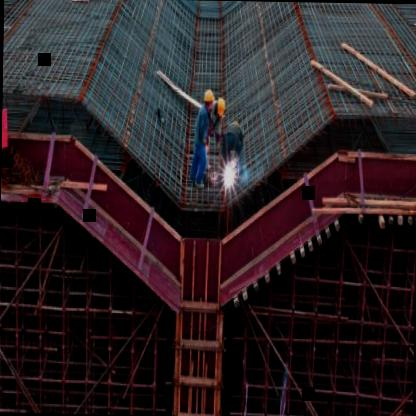helmet: (213, 92, 227, 123), (203, 84, 215, 113)
